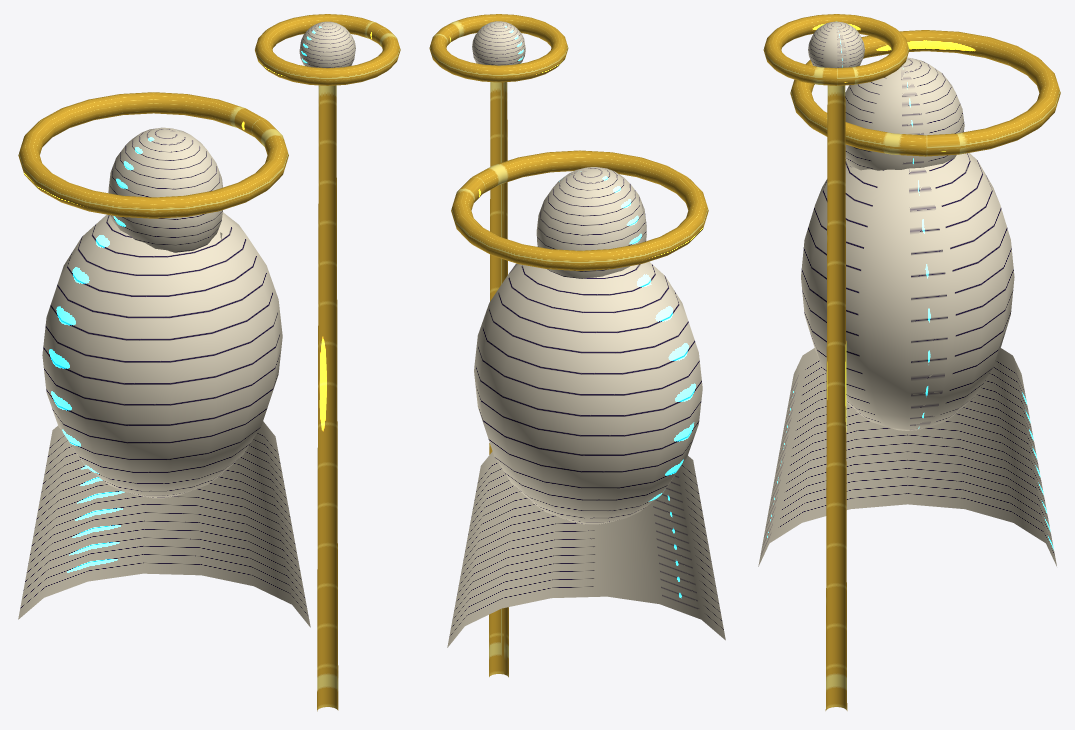
File: astral_rishi.glb
The picture shows the model from 3 angles, left to right: view 1: azimuth 30°, elevation 25°; view 2: azimuth 150°, elevation 25°; view 3: azimuth 270°, elevation 25°; orthographic projection. The views are drawn at different scales.
Parts seen in each view (by area): view 1: Node_AstralRishi; view 2: Node_AstralRishi; view 3: Node_AstralRishi.
Boxes of the visible parts, <box> form: Node_AstralRishi: <box>18,14,400,711</box>; Node_AstralRishi: <box>429,14,725,677</box>; Node_AstralRishi: <box>758,14,1060,710</box>.
Bounding box in the file's own units: 1.04 × 2.13 × 0.85.
2 materials, 2 textured.
